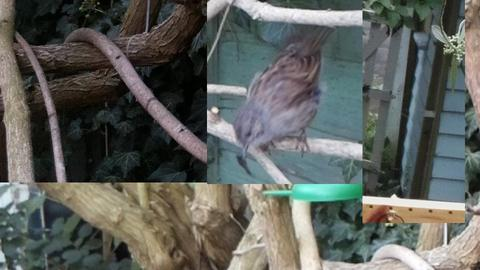dunnock: (232, 25, 338, 159)
